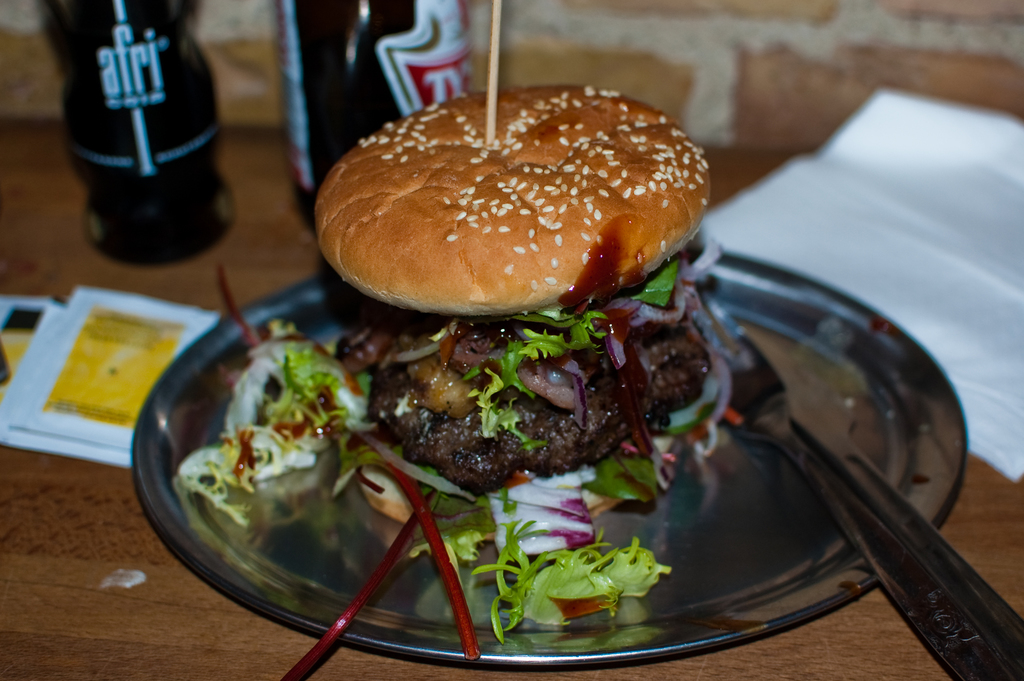Hamburger: (311, 81, 718, 518)
